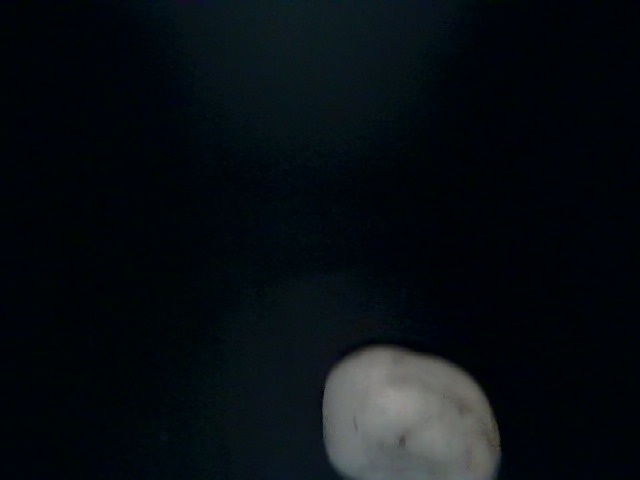QTLJ: (340, 388, 480, 480)
